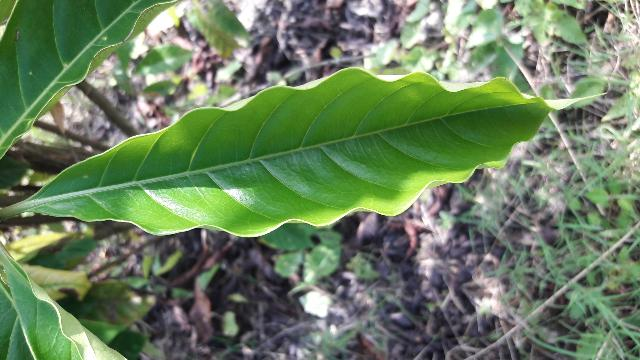healthy: (27, 66, 608, 238)
